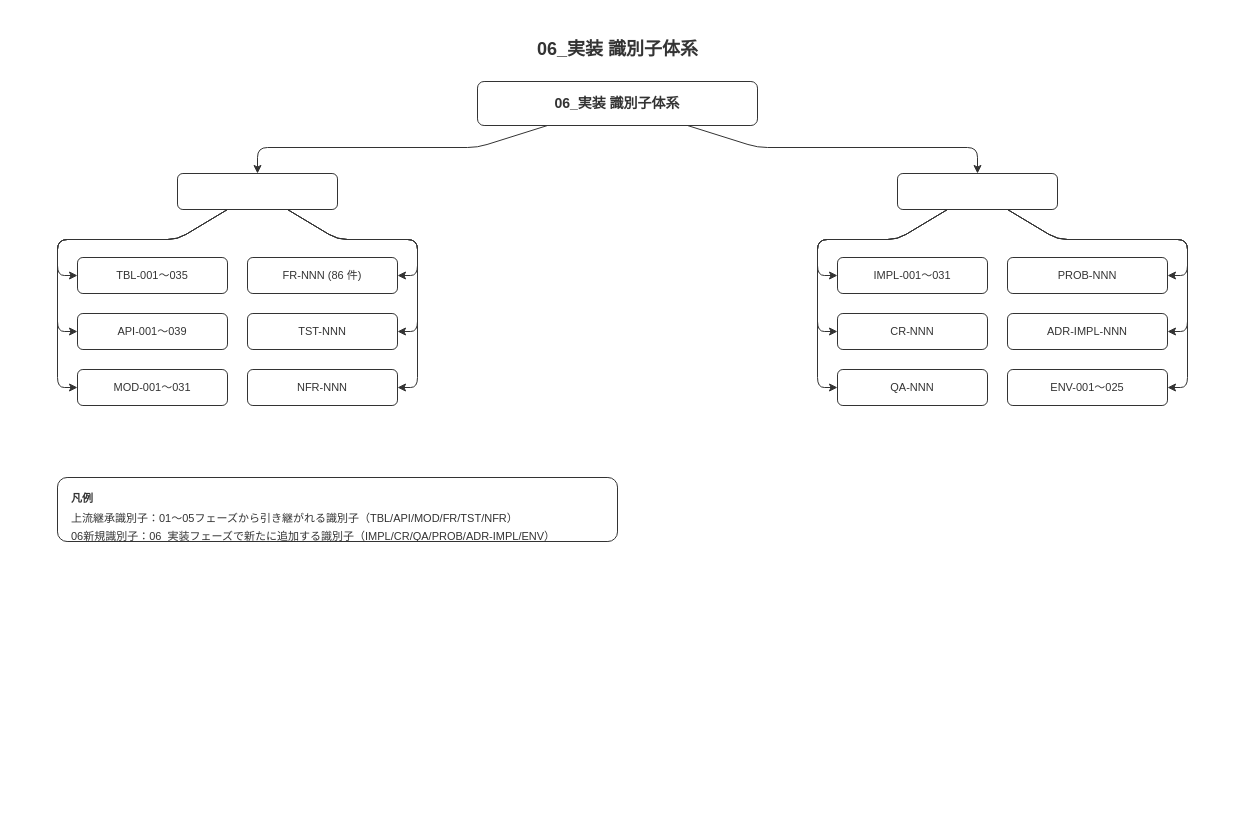
Some shapes in this 1234 by 834 pixel diagram are drawn without their labels. Here are the shapes that lost their labels. From the top down, the centre of each, then its label:
pixel 257 191: 上流継承識別子
pixel 977 191: 06新規識別子
